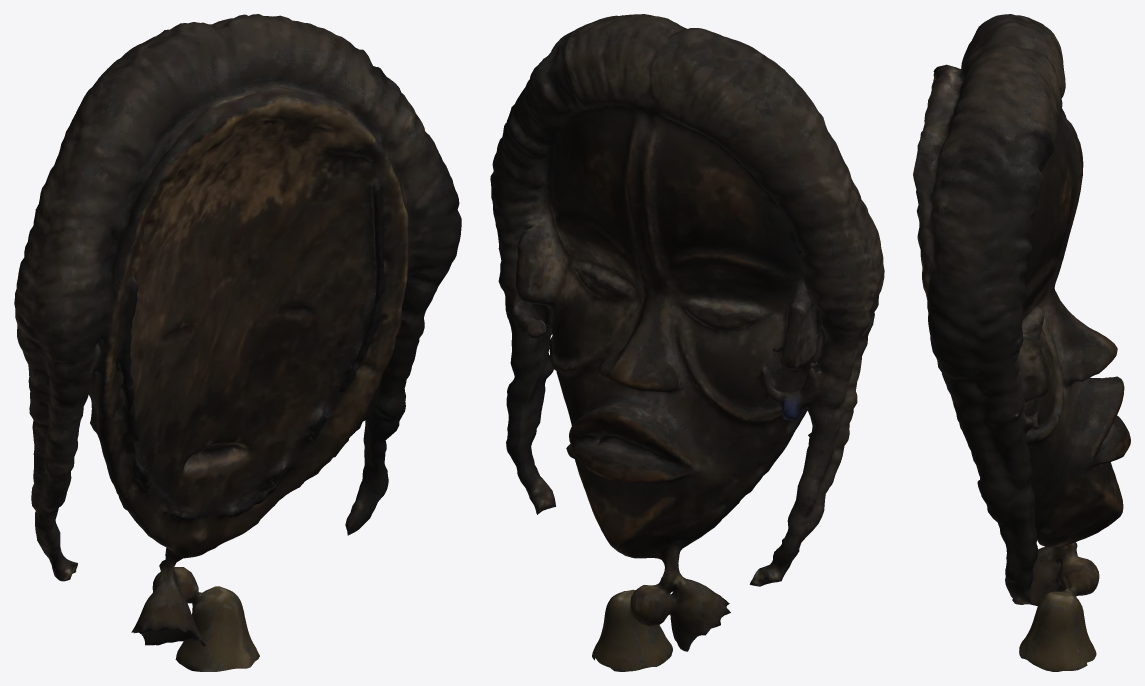
The model's file is preview.glb.
3 views of the same model, side by side, from view 1: azimuth 30°, elevation 25°; view 2: azimuth 150°, elevation 25°; view 3: azimuth 270°, elevation 25° (orthographic). The views are drawn at different scales.
Parts seen in each view (by area): view 1: Object_2; view 2: Object_2; view 3: Object_2.
Boxes of the visible parts, bbox=[...] form: Object_2: bbox=[14, 14, 461, 671]; Object_2: bbox=[490, 14, 884, 671]; Object_2: bbox=[913, 14, 1130, 671].
Size of the model in its own units: 185 by 283 by 91.7.
1 material, 1 textured.
